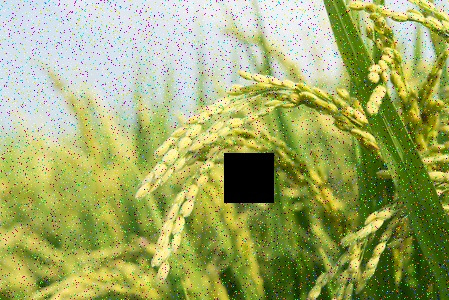rice: (130, 57, 377, 279)
